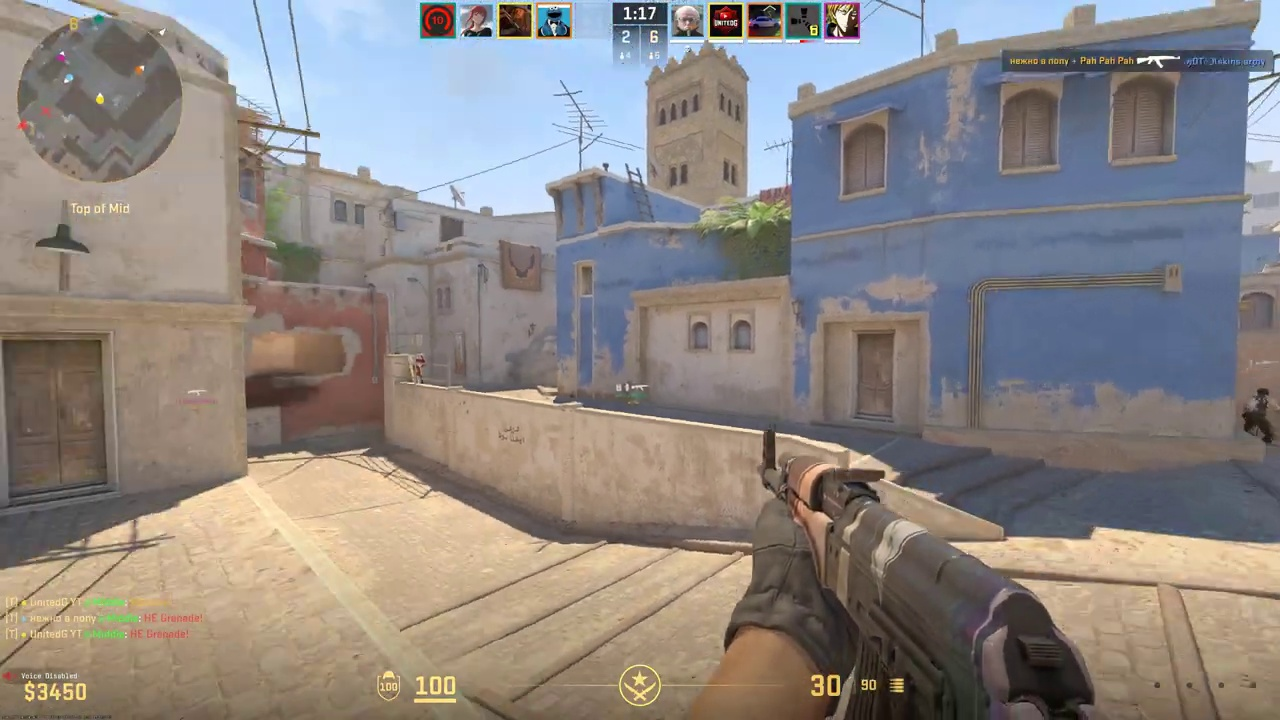Terrorist: (1245, 388, 1276, 443)
